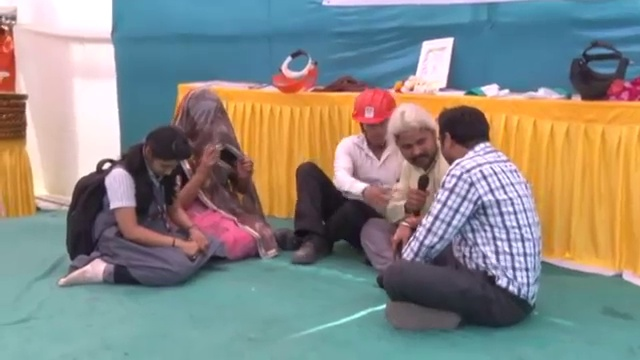helmet: (349, 86, 401, 125)
helmet_off: (433, 106, 496, 168), (177, 89, 231, 156), (393, 106, 438, 175), (135, 127, 190, 179)
helmet_on: (350, 85, 399, 156)
person: (361, 101, 542, 321), (58, 120, 209, 291), (288, 96, 413, 256), (165, 89, 268, 261), (361, 103, 450, 272)
